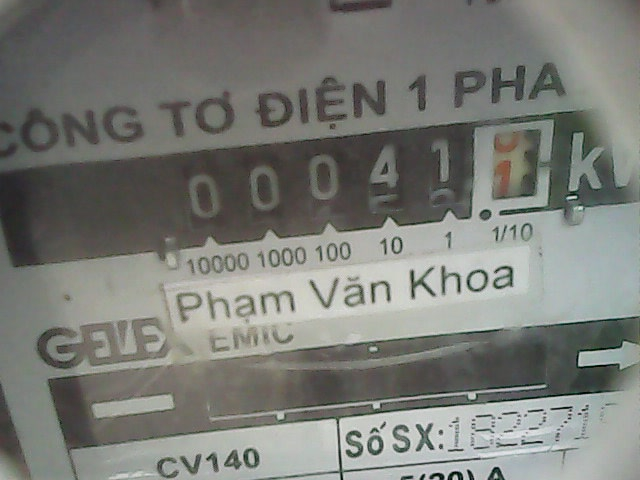phy_plate: (169, 117, 562, 246)
